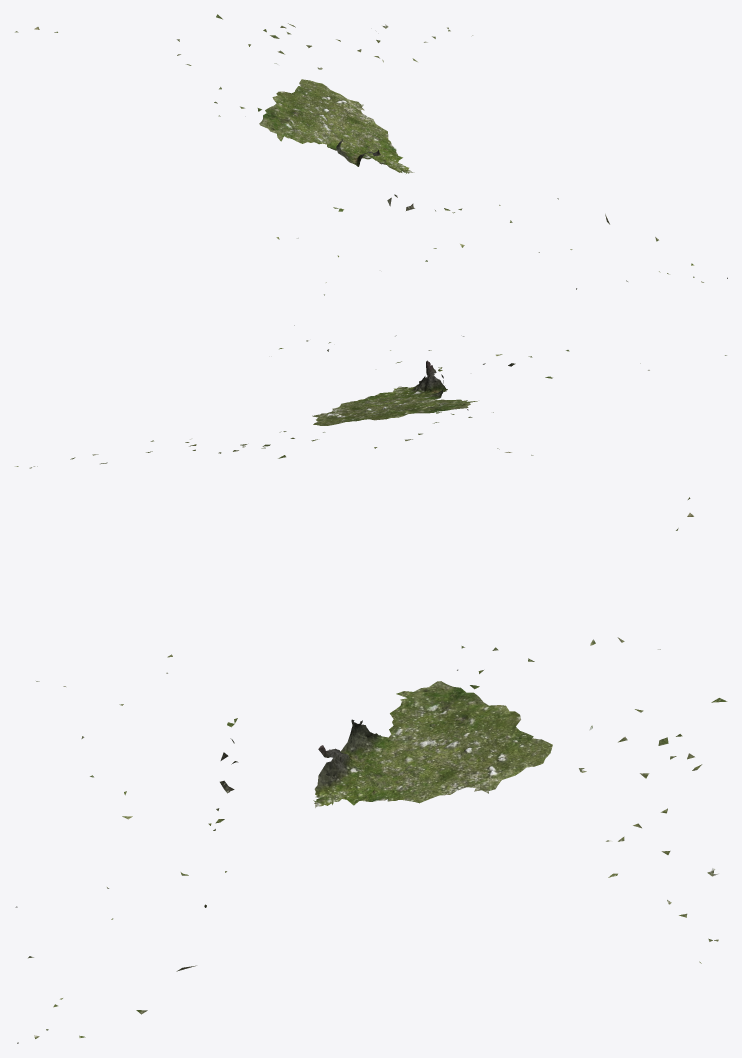
3 renders of one model, top to bottom at view 1: azimuth 30°, elevation 25°; view 2: azimuth 150°, elevation 25°; view 3: azimuth 270°, elevation 25°, orthographic. The views are drawn at different scales.
Bounding box in the file's own units: 32.39 × 12.17 × 31.87.
1 material, 1 textured.
